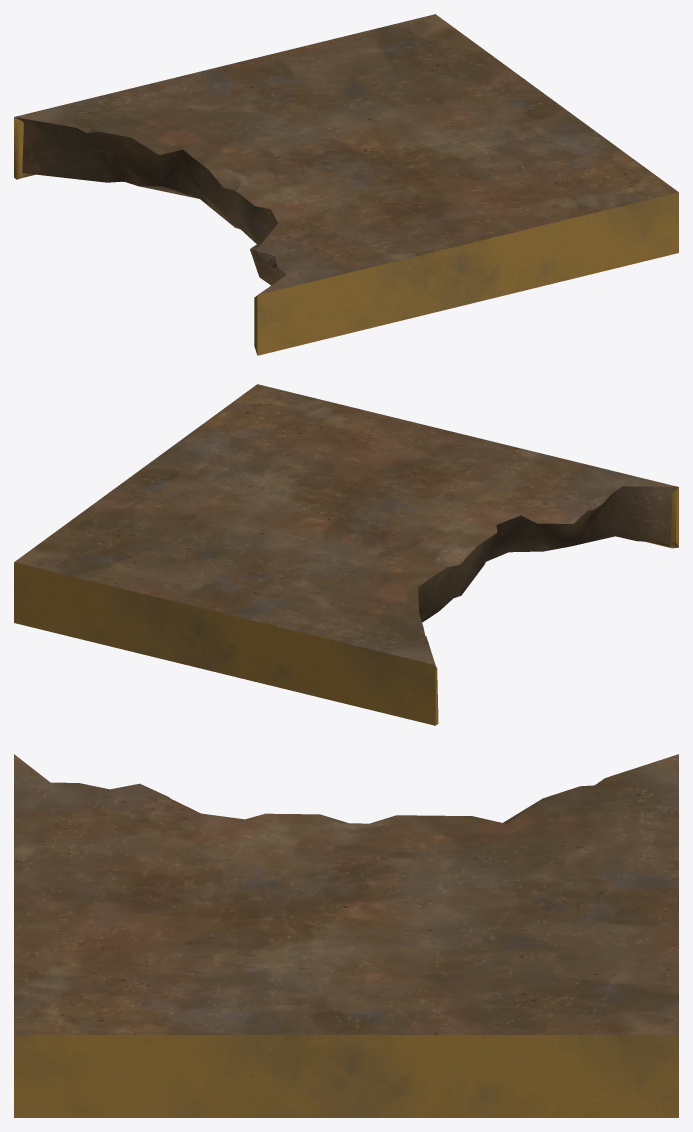
3 views of the same model, one above another, from view 1: azimuth 30°, elevation 25°; view 2: azimuth 150°, elevation 25°; view 3: azimuth 270°, elevation 25° (orthographic). The views are drawn at different scales.
Parts seen in each view (by area): view 1: SM_Vault_4x4_Ceiling_Dmg_04_LOD0; view 2: SM_Vault_4x4_Ceiling_Dmg_04_LOD0; view 3: SM_Vault_4x4_Ceiling_Dmg_04_LOD0.
Part boxes in pixels (left/top/right/bottom): SM_Vault_4x4_Ceiling_Dmg_04_LOD0: left=14, top=14, right=678, bottom=355; SM_Vault_4x4_Ceiling_Dmg_04_LOD0: left=14, top=384, right=678, bottom=725; SM_Vault_4x4_Ceiling_Dmg_04_LOD0: left=14, top=754, right=678, bottom=1117.
Bounding box in the file's own units: 4 × 0.5675 × 4.
2 materials, 2 textured.
